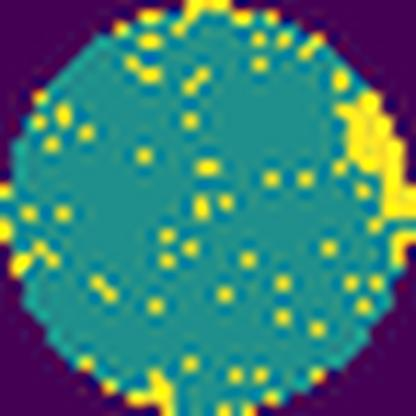Edge-Loc: (315, 85, 416, 274)
